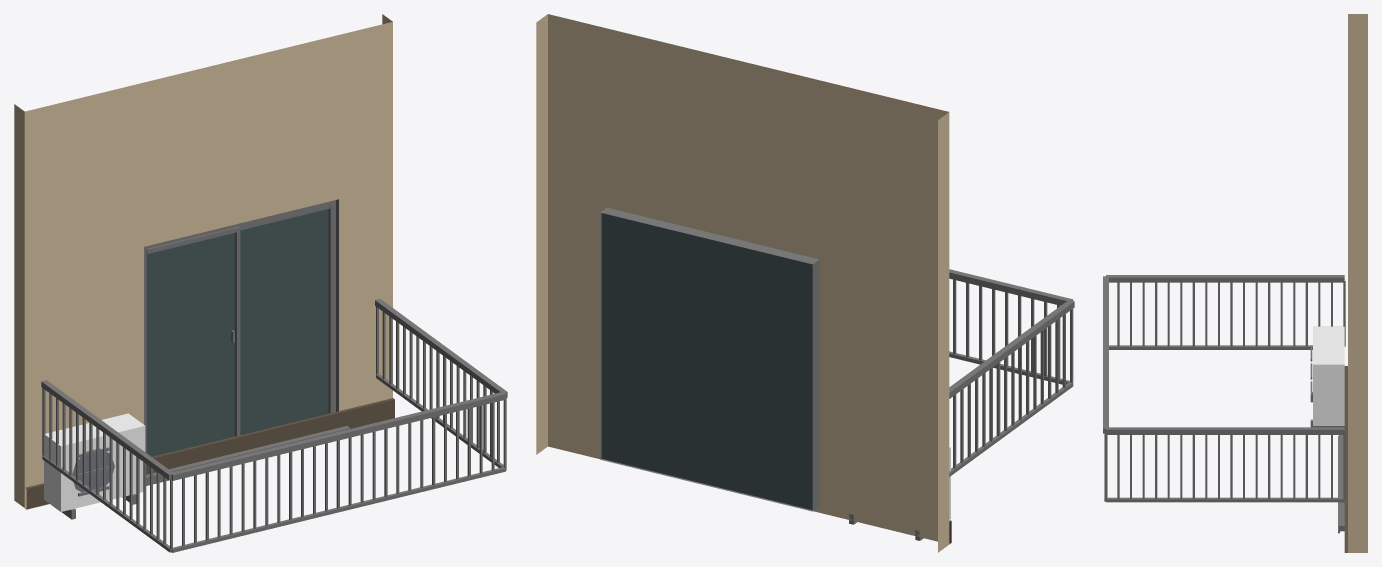
File: top-stair3_close.fbx
3 views of the same model, side by side, from view 1: azimuth 30°, elevation 25°; view 2: azimuth 150°, elevation 25°; view 3: azimuth 270°, elevation 25° (orthographic). The views are drawn at different scales.
Visible parts, largest first — view 1: a2000/400/top-stair_close; view 2: a2000/400/top-stair_close; view 3: a2000/400/top-stair_close.
Part boxes in pixels (bbox=[...]): a2000/400/top-stair_close: bbox=[14, 14, 507, 552]; a2000/400/top-stair_close: bbox=[536, 14, 1074, 552]; a2000/400/top-stair_close: bbox=[1103, 14, 1367, 552].
Size of the model in its own units: 3.4 by 3.53 by 2.27.
